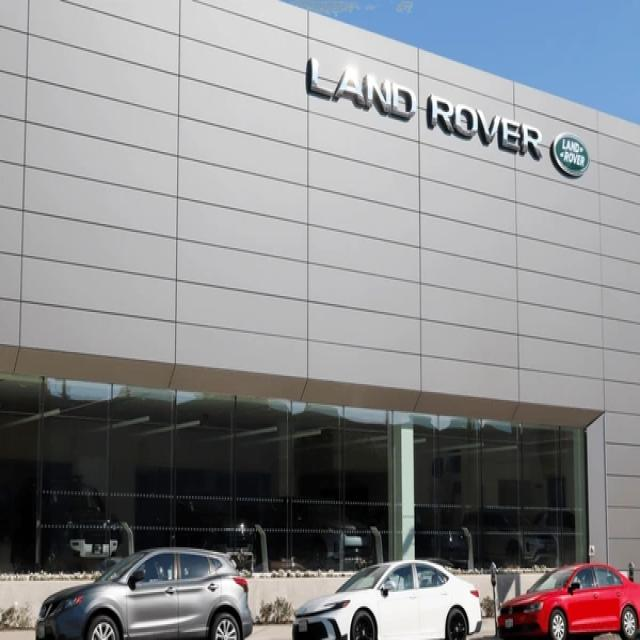landrover: (304, 53, 548, 168), (551, 130, 589, 172)
